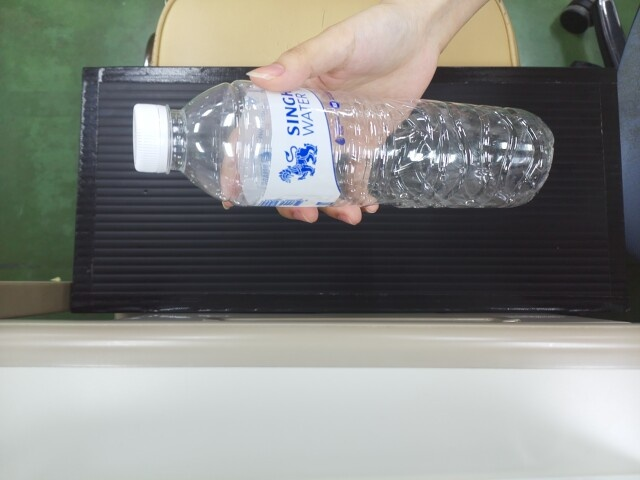plastic_bottle: (130, 80, 549, 212)
